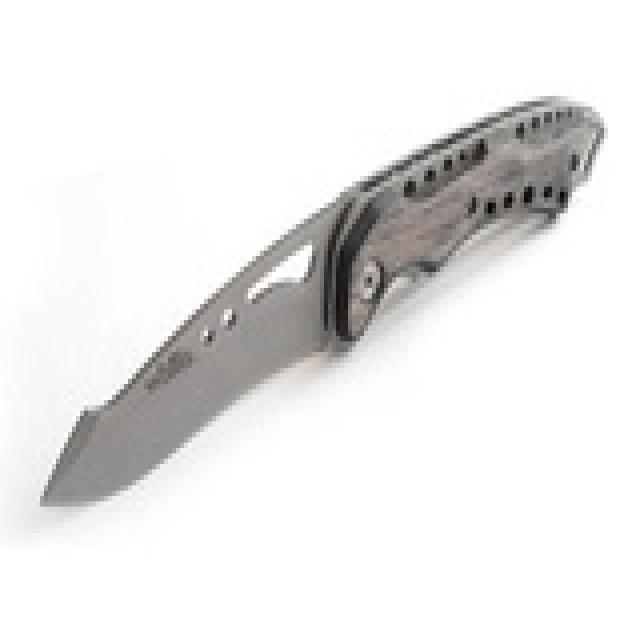Knife: (38, 92, 606, 512)
